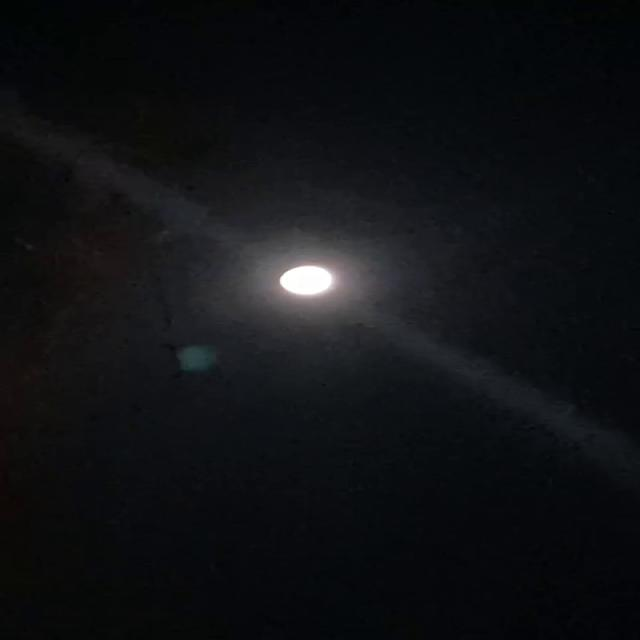moon: (270, 258, 343, 301)
